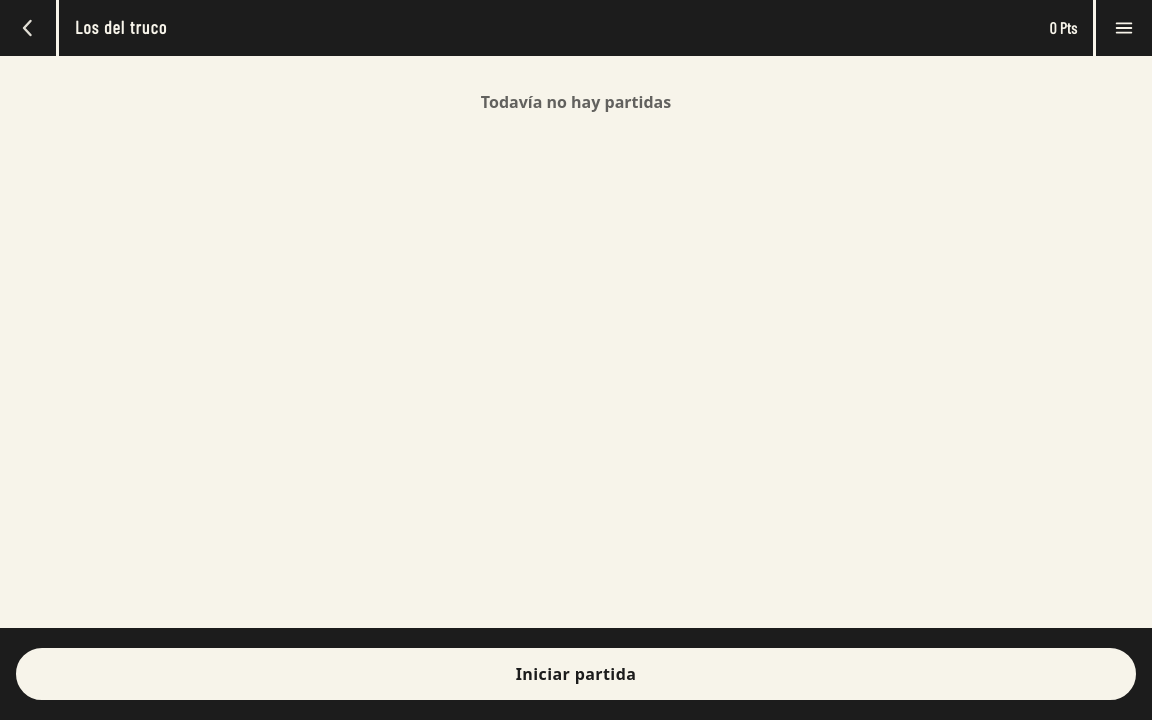
Test: GroupScreen › agregar integrante ya no está en el menú del grupo (está en Participantes)
Click the button named "Menú" at (1124, 28), box [1096,0,1151,56]
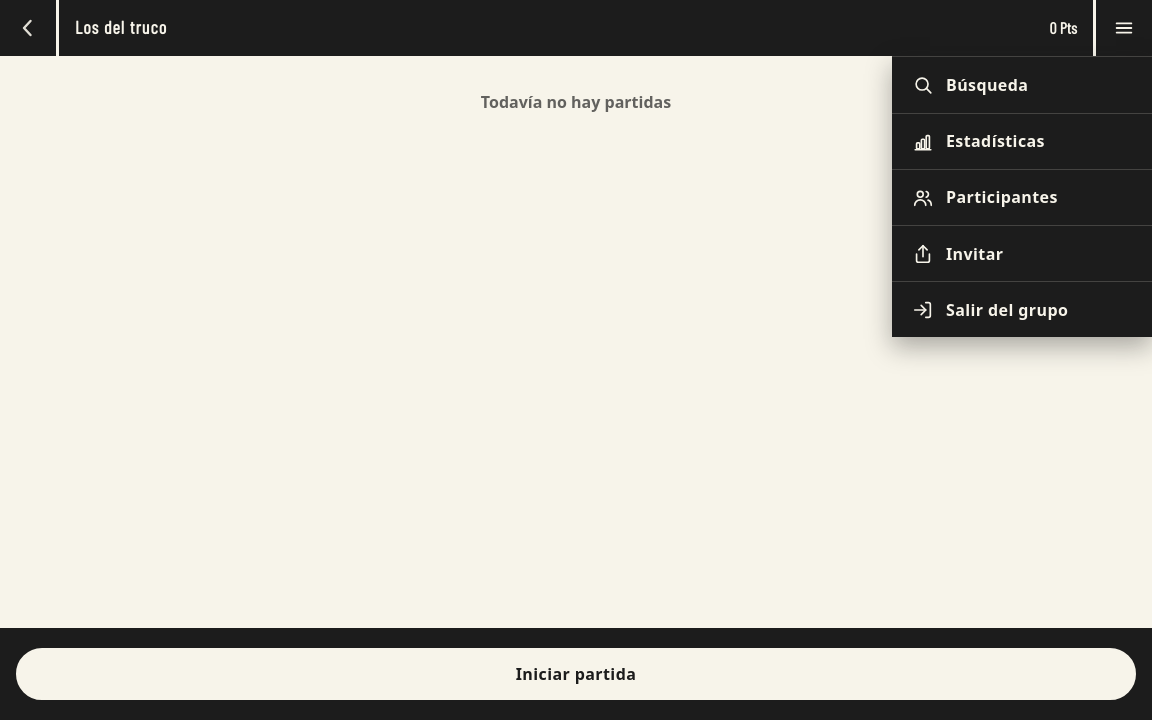
Result: the link "Participantes" is shown at [892,169,1151,225]
